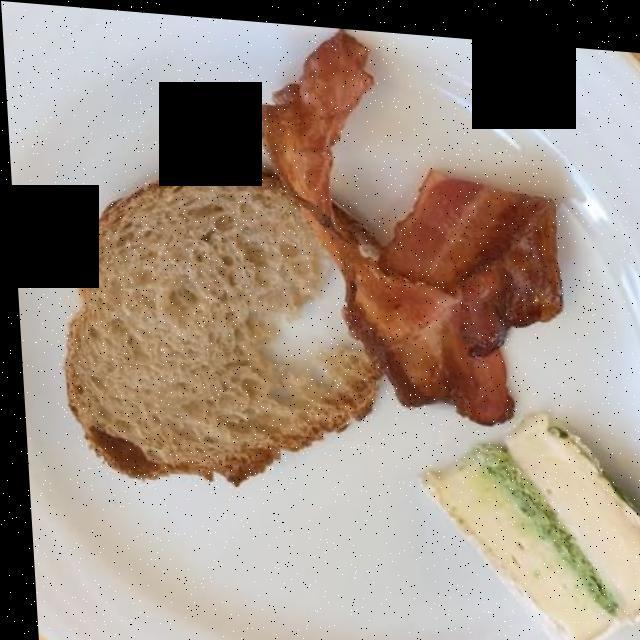bacon: (238, 30, 558, 411)
bread: (62, 159, 370, 469)
cheese: (421, 413, 640, 640)
